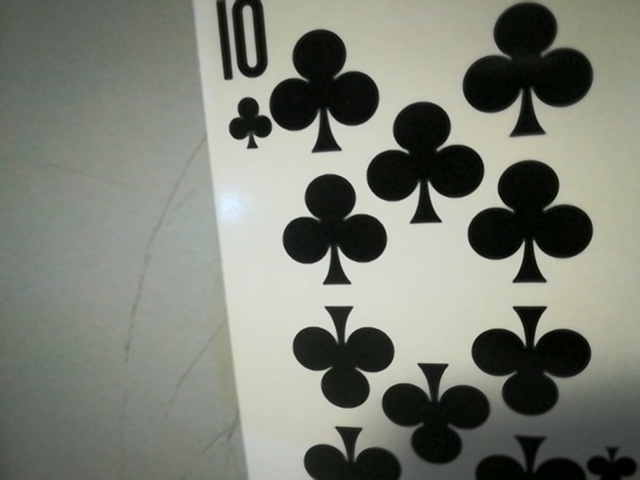mh 10: (202, 0, 281, 156)
